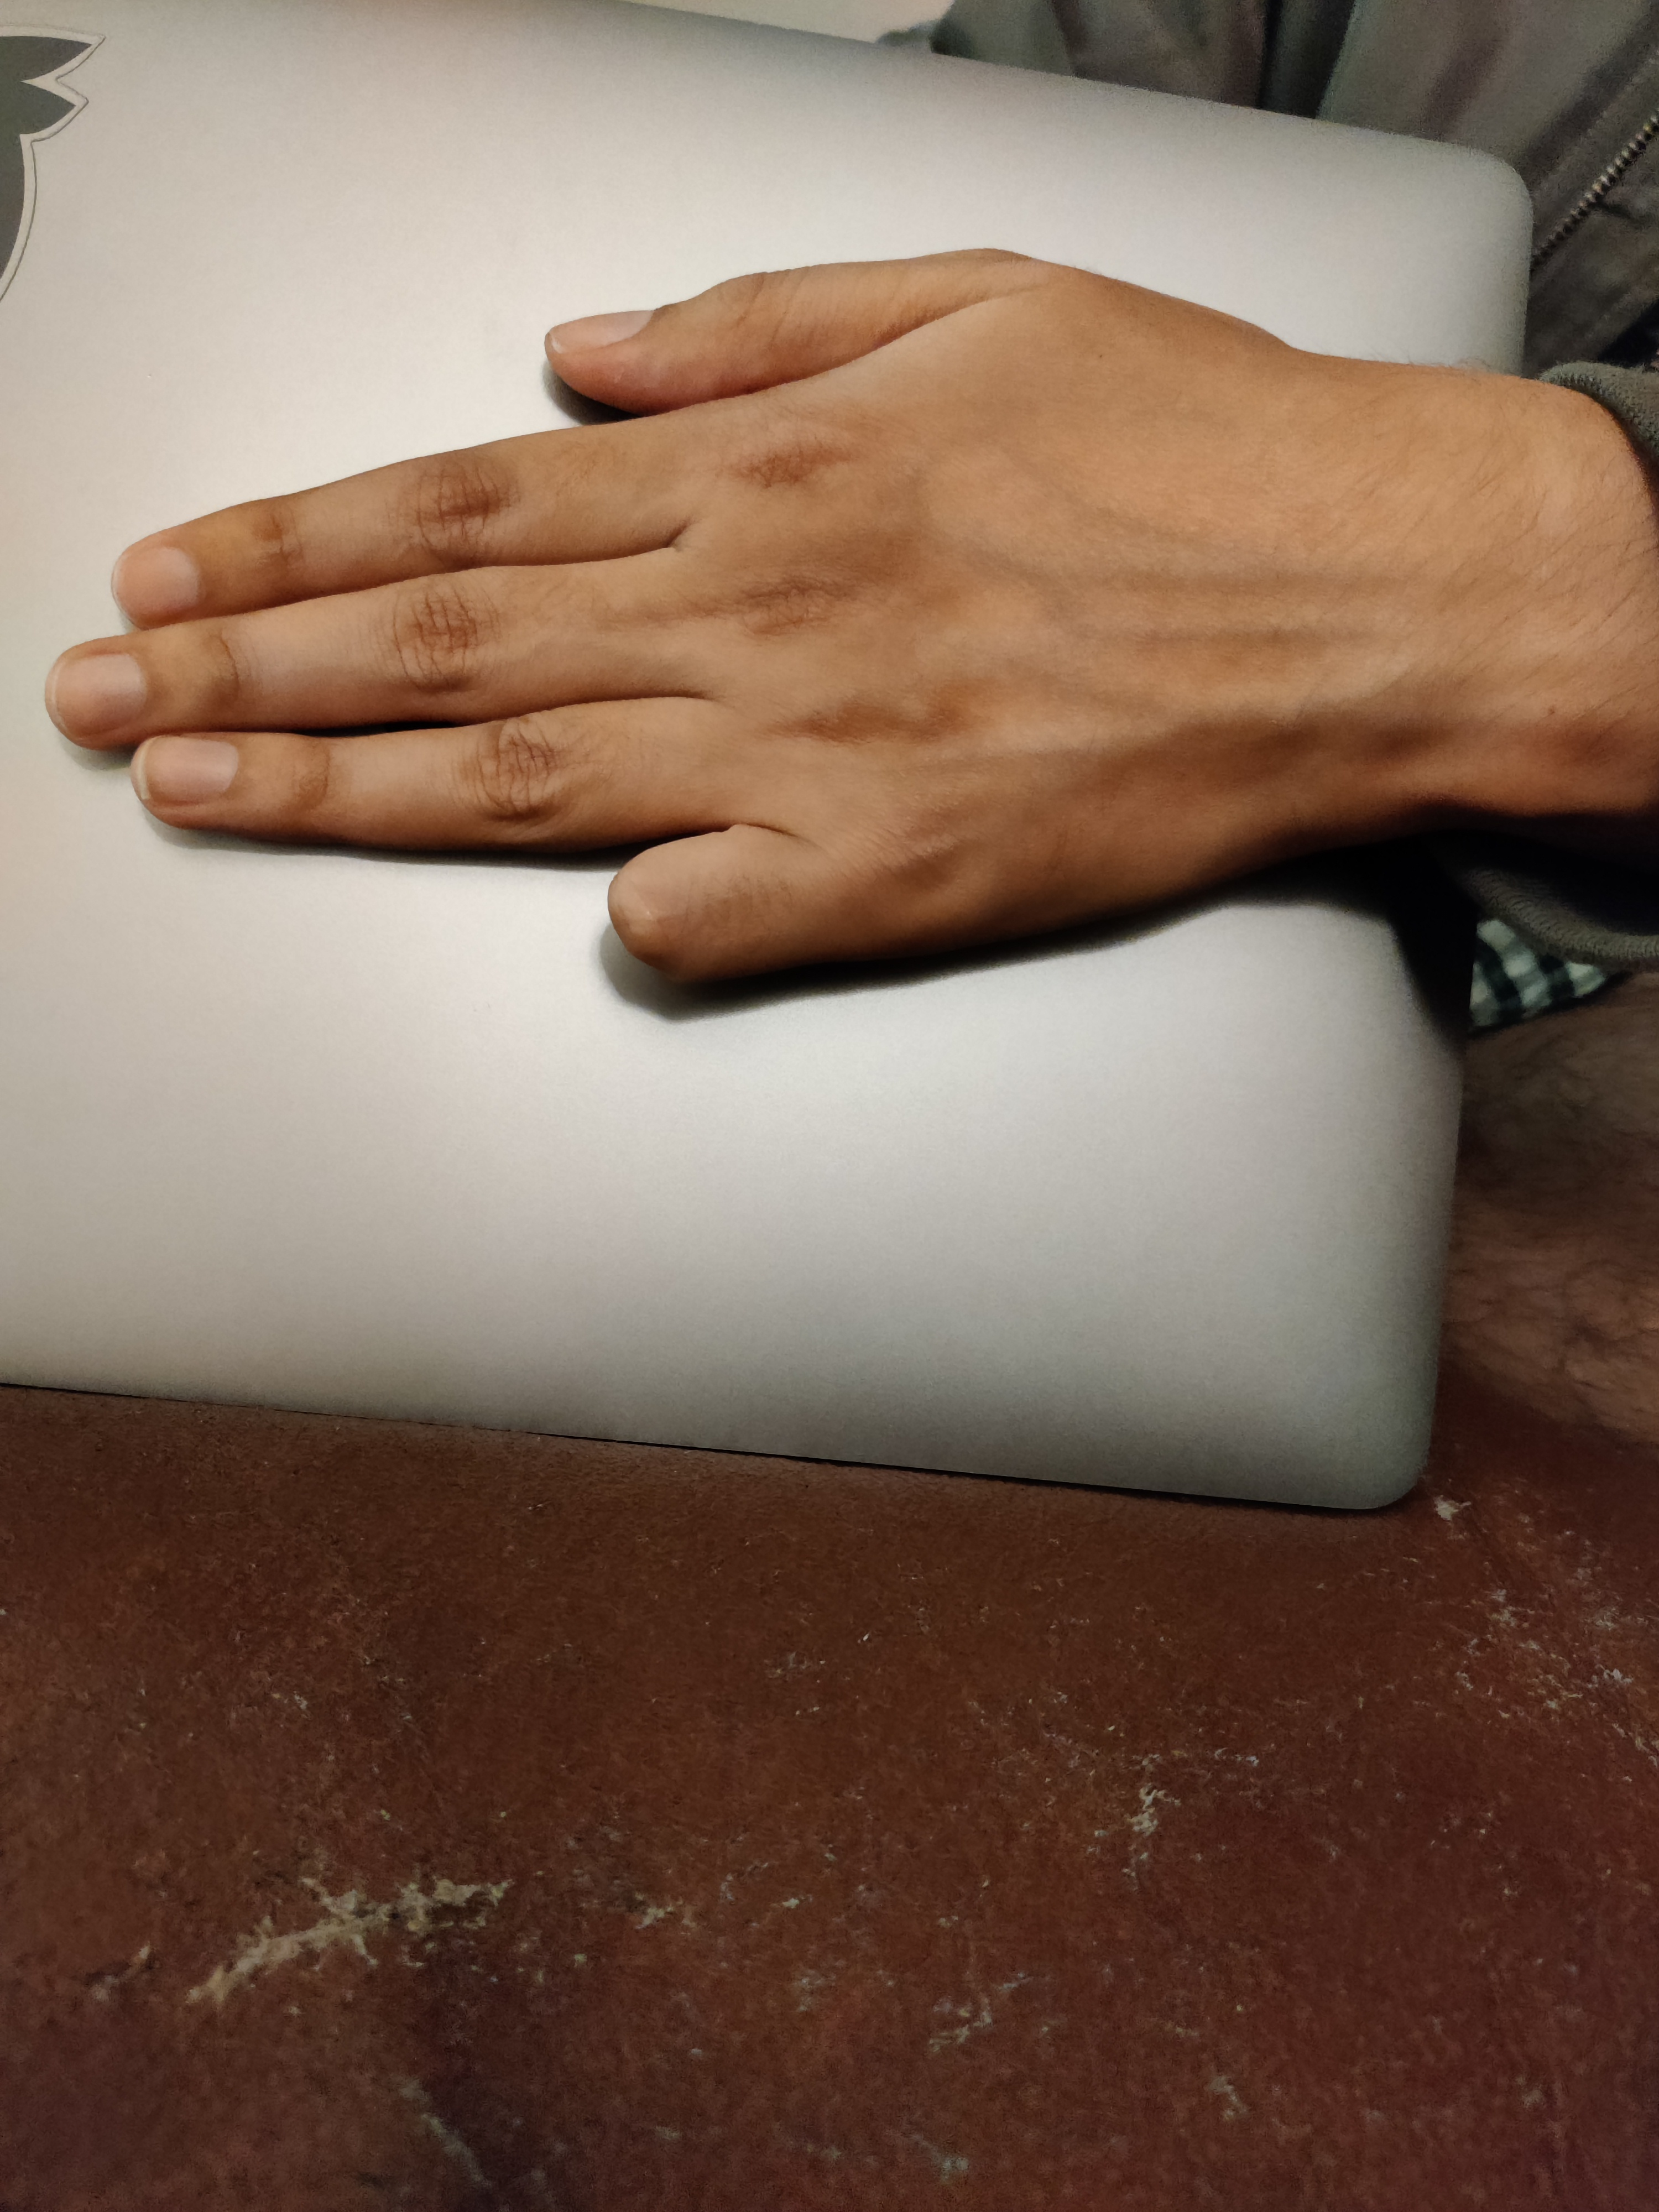right: (33, 148, 1556, 1165)
